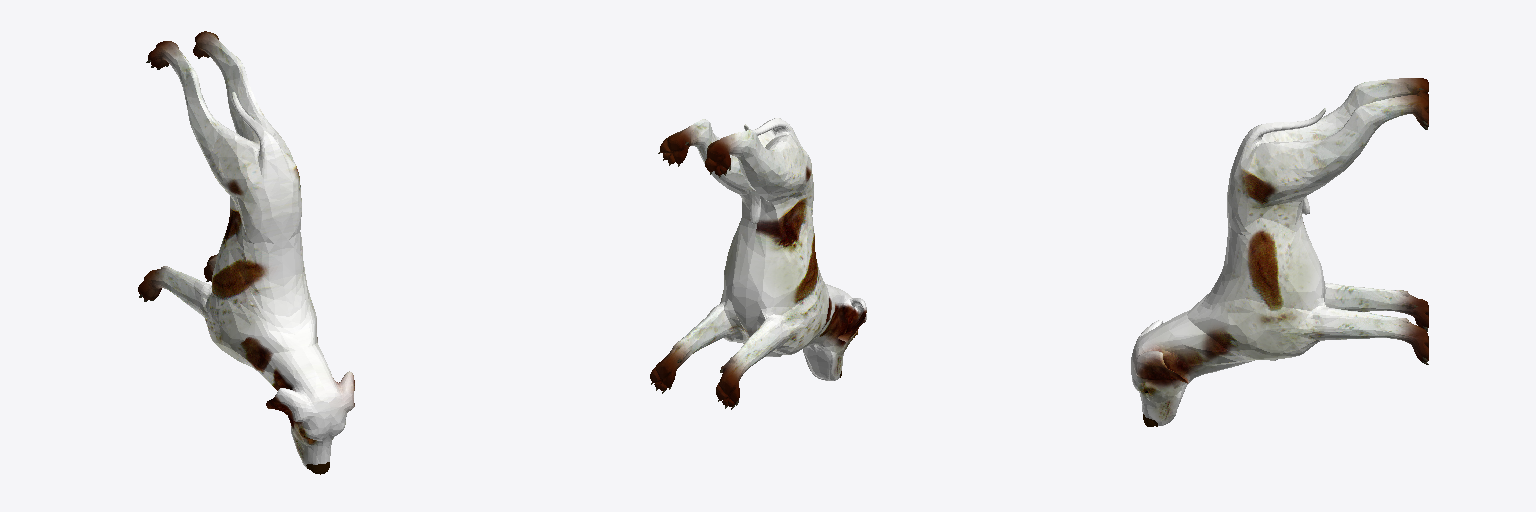
The picture shows the model from 3 angles: view 1: azimuth 30°, elevation 25°; view 2: azimuth 150°, elevation 25°; view 3: azimuth 270°, elevation 25°; orthographic projection.
Bounding box in the file's own units: 1368 × 4992 × 3981.
7 materials, 4 textured.